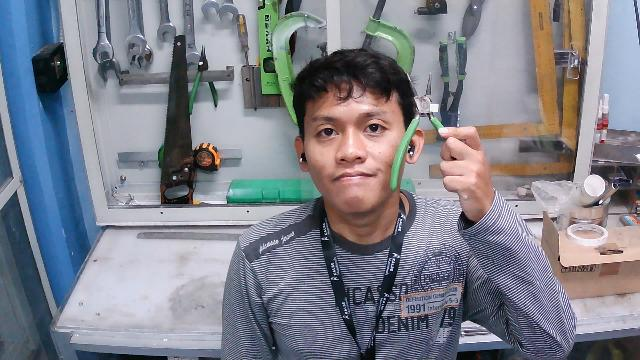tang_cucut_lancip_1: (384, 68, 465, 203)
